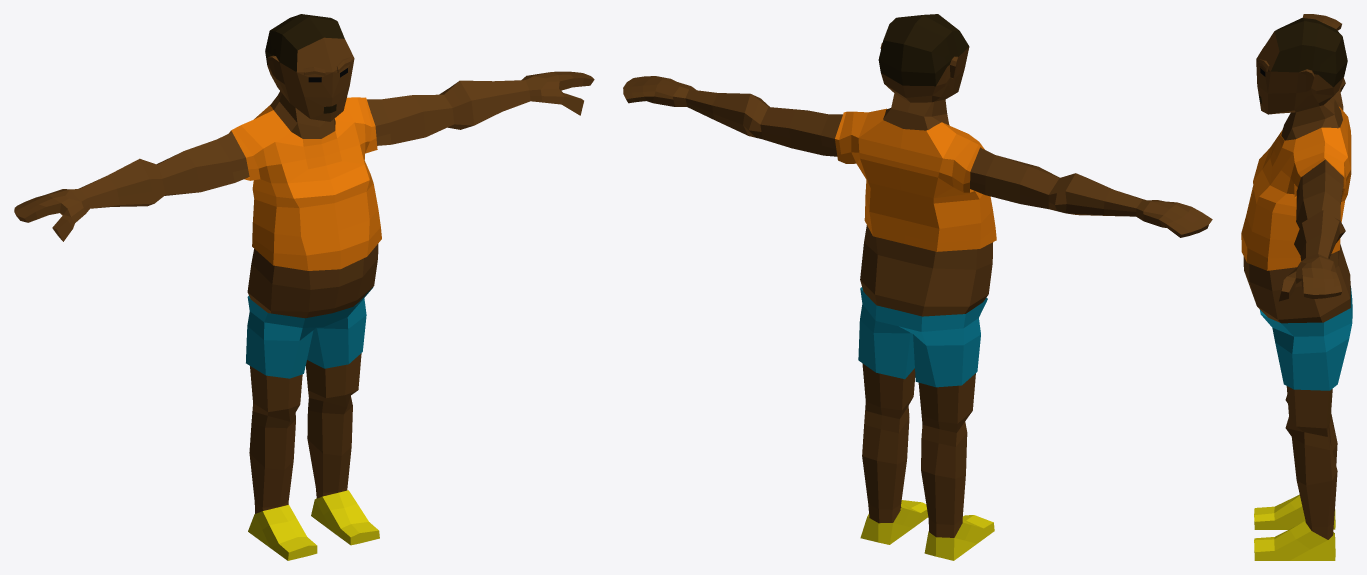
Rendered from NPC_Pedofilo.fbx.
The picture shows the model from 3 angles, left to right: view 1: azimuth 30°, elevation 25°; view 2: azimuth 150°, elevation 25°; view 3: azimuth 270°, elevation 25°; orthographic projection.
Parts seen in each view (by area): view 1: Gordo; view 2: Gordo; view 3: Gordo.
Part boxes in pixels (x1=…): Gordo: x1=14, y1=14, x2=594, y2=560; Gordo: x1=623, y1=14, x2=1212, y2=560; Gordo: x1=1241, y1=14, x2=1352, y2=560.
Size of the model in its own units: 215 by 185 by 35.95.
